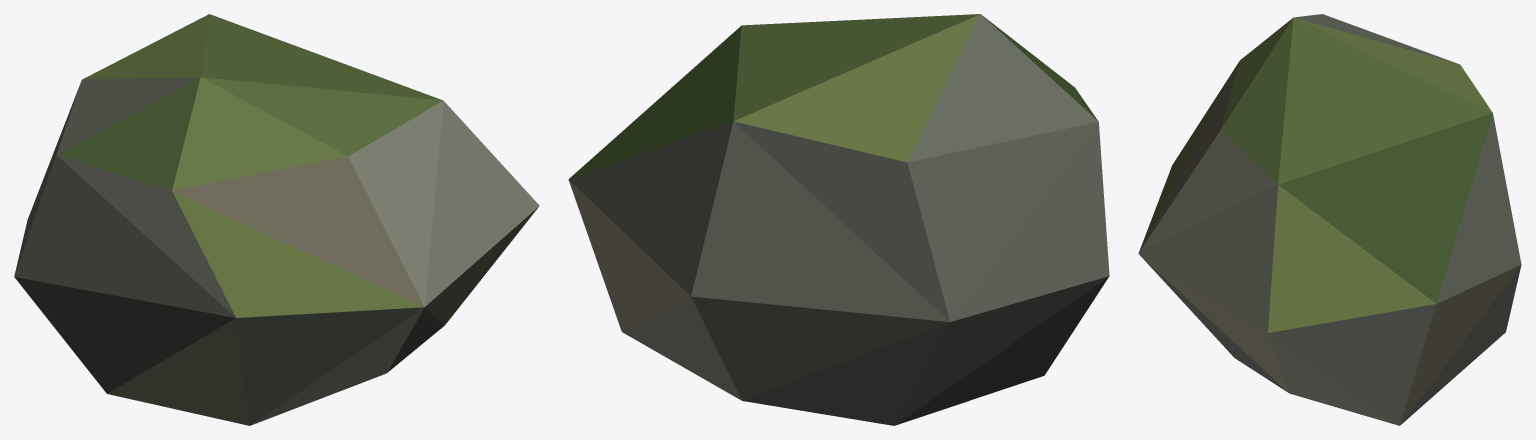
The model's file is Boulder_02_Mossy.obj.
The picture shows the model from 3 angles, left to right: view 1: azimuth 30°, elevation 25°; view 2: azimuth 150°, elevation 25°; view 3: azimuth 270°, elevation 25°; orthographic projection. The views are drawn at different scales.
Visible parts, largest first — view 1: Boulder_02_Mossy; view 2: Boulder_02_Mossy; view 3: Boulder_02_Mossy.
Part boxes in pixels (left/top/right/bottom): Boulder_02_Mossy: left=14, top=14, right=539, bottom=425; Boulder_02_Mossy: left=568, top=14, right=1109, bottom=425; Boulder_02_Mossy: left=1138, top=14, right=1521, bottom=425.
Size of the model in its own units: 1.69 by 1.1 by 1.32.
Materials: 1 (1 with a texture image).
